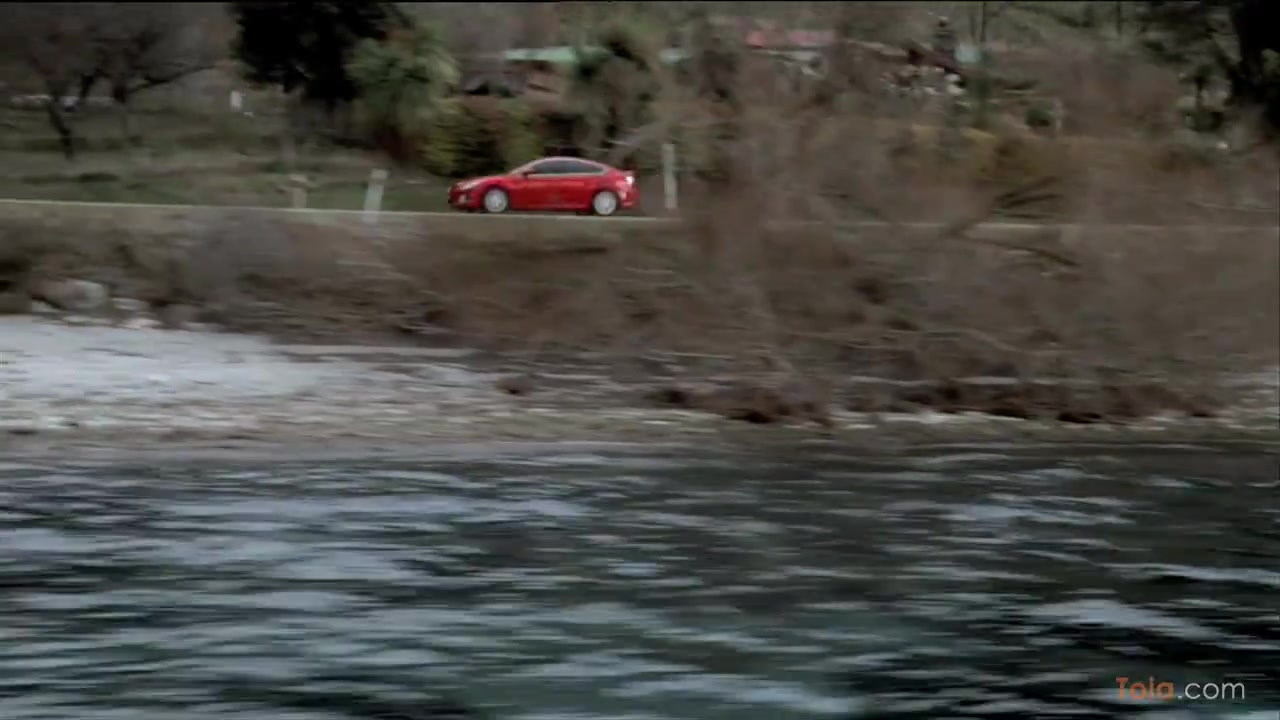car: (450, 152, 646, 218)
